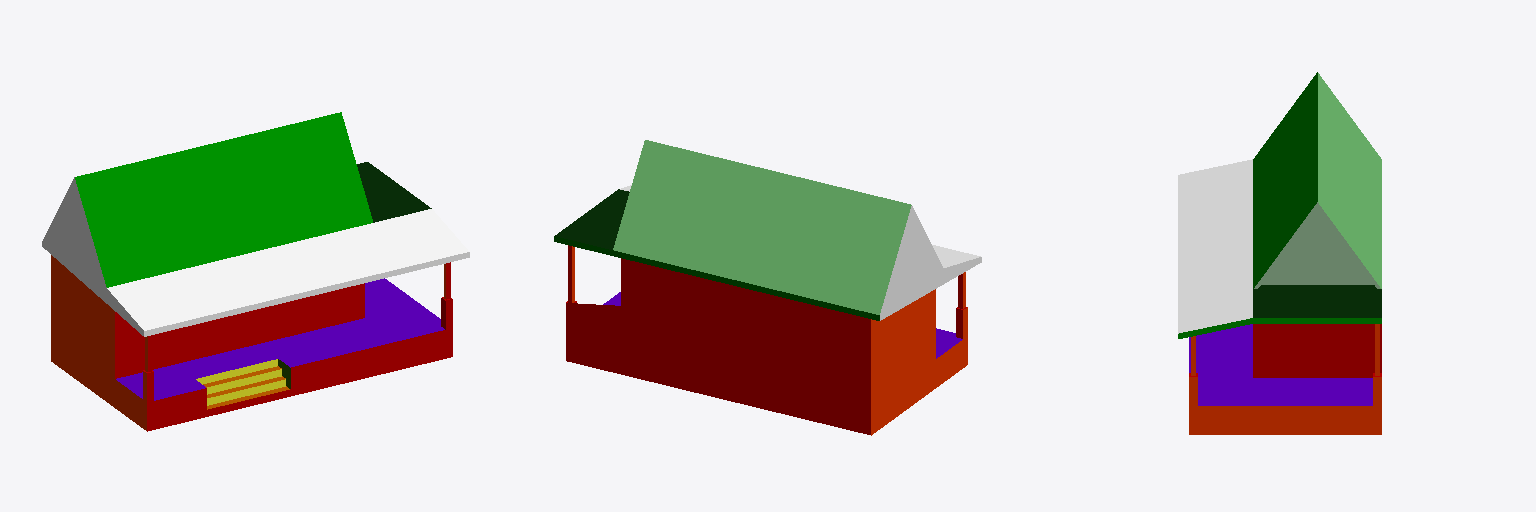
File: villa.obj
The picture shows the model from 3 angles: view 1: azimuth 30°, elevation 25°; view 2: azimuth 150°, elevation 25°; view 3: azimuth 270°, elevation 25°; orthographic projection.
Visible parts, largest first — view 1: Mesh1 roof1 Model, Mesh2 house1 Model; view 2: Mesh2 house1 Model, Mesh1 roof1 Model; view 3: Mesh1 roof1 Model, Mesh2 house1 Model.
Boxes of the visible parts, box(x1,y1,x2,y2) form: Mesh1 roof1 Model: box(42, 112, 469, 336); Mesh2 house1 Model: box(51, 255, 452, 431); Mesh2 house1 Model: box(566, 245, 967, 435); Mesh1 roof1 Model: box(554, 140, 981, 320); Mesh1 roof1 Model: box(1178, 72, 1381, 338); Mesh2 house1 Model: box(1189, 324, 1381, 434).
Size of the model in its own units: 11.7 by 7.2 by 6.34.